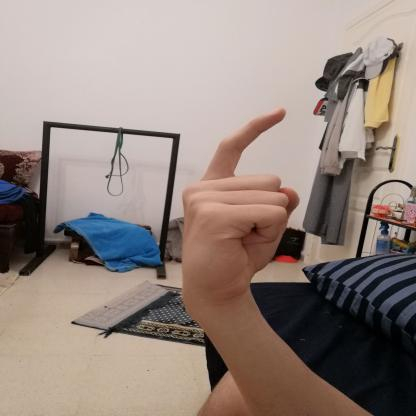RAA: (169, 97, 310, 307)
